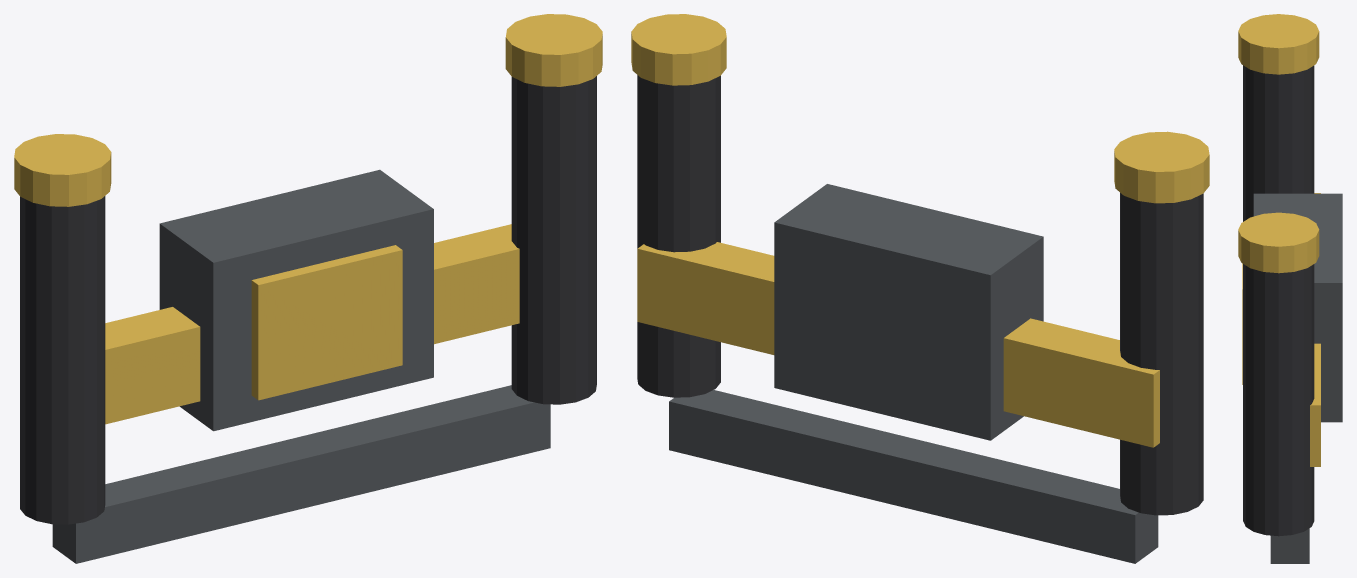
Rendered from steering_bulldozer.glb.
3 views of the same model, side by side, from view 1: azimuth 30°, elevation 25°; view 2: azimuth 150°, elevation 25°; view 3: azimuth 270°, elevation 25° (orthographic). The views are drawn at different scales.
Visible parts, largest first — view 1: WheelHub, BottomGuardBar, GripLeft, GripRight, WheelHornCap, CrossBarMain, GripCapRight, GripCapLeft; view 2: WheelHub, BottomGuardBar, CrossBarMain, GripLeft, GripRight, GripCapRight, GripCapLeft; view 3: GripRight, GripLeft, WheelHub, GripCapRight, GripCapLeft, BottomGuardBar, CrossBarMain.
Part boxes in pixels (x1,y1,x2,y2): WheelHub: [159, 169, 433, 431]; BottomGuardBar: [52, 385, 550, 563]; GripLeft: [20, 196, 105, 524]; GripRight: [511, 76, 596, 404]; WheelHornCap: [251, 245, 402, 400]; CrossBarMain: [105, 224, 519, 424]; GripCapRight: [505, 14, 602, 86]; GripCapLeft: [14, 134, 111, 206]; WheelHub: [774, 184, 1043, 440]; BottomGuardBar: [669, 390, 1158, 563]; CrossBarMain: [637, 242, 1159, 447]; GripLeft: [1120, 193, 1203, 515]; GripRight: [637, 75, 720, 397]; GripCapRight: [631, 14, 726, 85]; GripCapLeft: [1114, 131, 1209, 203]; GripRight: [1243, 264, 1314, 536]; GripLeft: [1243, 65, 1314, 221]; WheelHub: [1253, 193, 1342, 422]; GripCapRight: [1238, 212, 1319, 273]; GripCapLeft: [1238, 14, 1319, 74]; BottomGuardBar: [1270, 528, 1309, 563]; CrossBarMain: [1310, 193, 1320, 466].
Size of the model in its own units: 0.34 by 0.23 by 0.0645.
